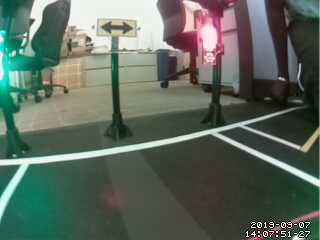Left_Right_sign: (96, 20, 137, 35)
Traffic_light_red: (202, 22, 219, 63)
